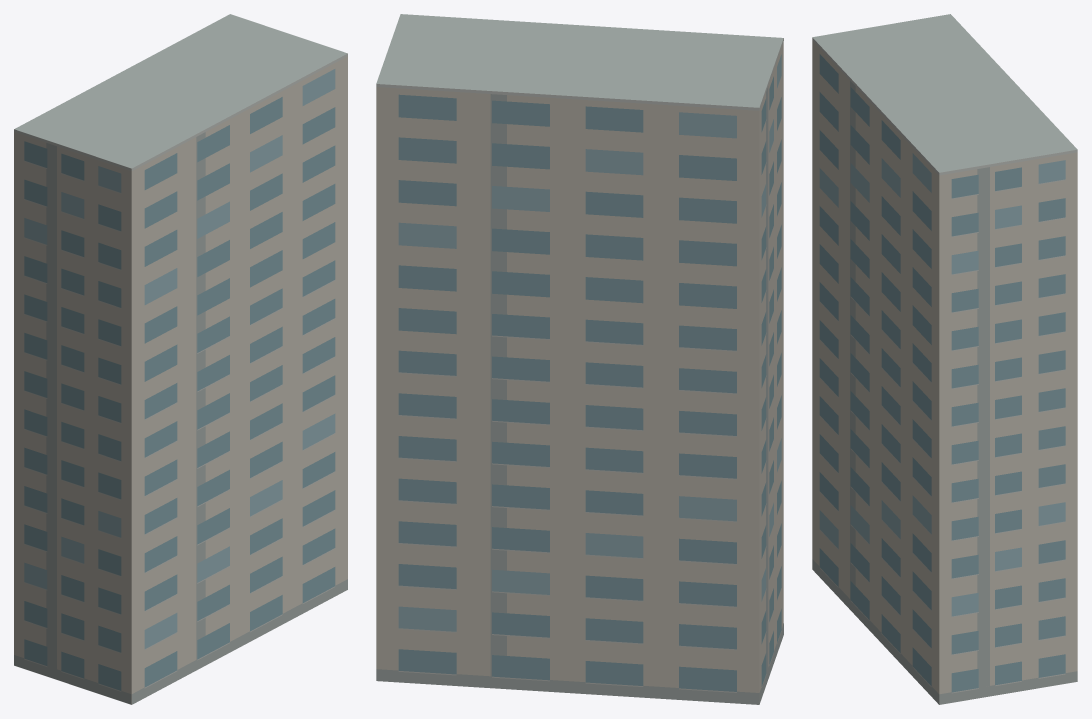
File: residential-28b6506f-2196-4835-8e75-074663ac5610.glb
3 views of the same model, side by side, from view 1: azimuth 30°, elevation 25°; view 2: azimuth 150°, elevation 25°; view 3: azimuth 270°, elevation 25° (orthographic). The views are drawn at different scales.
Parts seen in each view (by area): view 1: residential-28b6506f-2196-4835-8e75-074663ac5610.tmp; view 2: residential-28b6506f-2196-4835-8e75-074663ac5610.tmp; view 3: residential-28b6506f-2196-4835-8e75-074663ac5610.tmp.
Boxes of the visible parts, x1=… form: residential-28b6506f-2196-4835-8e75-074663ac5610.tmp: x1=14, y1=14, x2=347, y2=704; residential-28b6506f-2196-4835-8e75-074663ac5610.tmp: x1=376, y1=14, x2=783, y2=704; residential-28b6506f-2196-4835-8e75-074663ac5610.tmp: x1=812, y1=14, x2=1077, y2=704.
Bounding box in the file's own units: 30.74 × 48 × 21.72.
